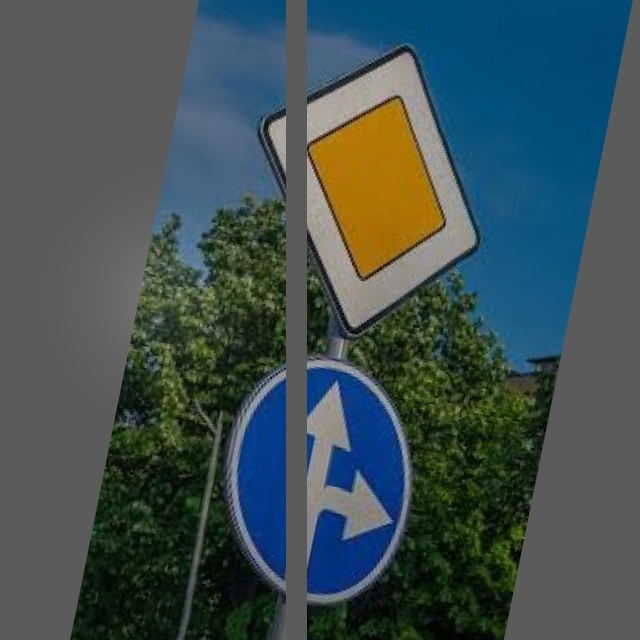Compulsory_Ahead_or_Turn_Right: (206, 340, 436, 616)
